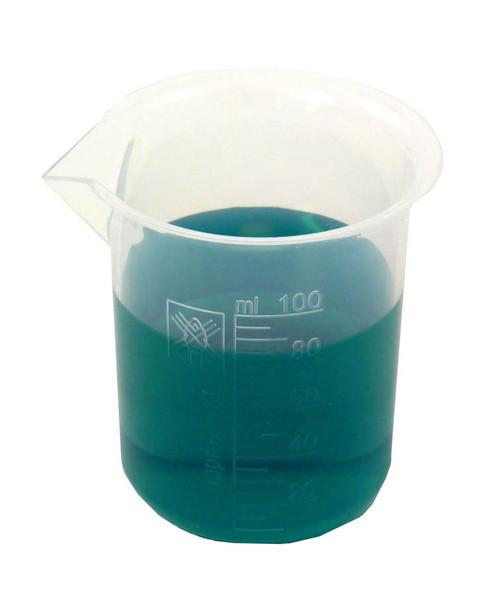Beaker: (41, 78, 443, 548)
